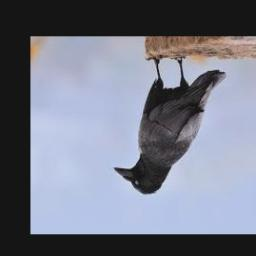Crow: (113, 56, 226, 196)
